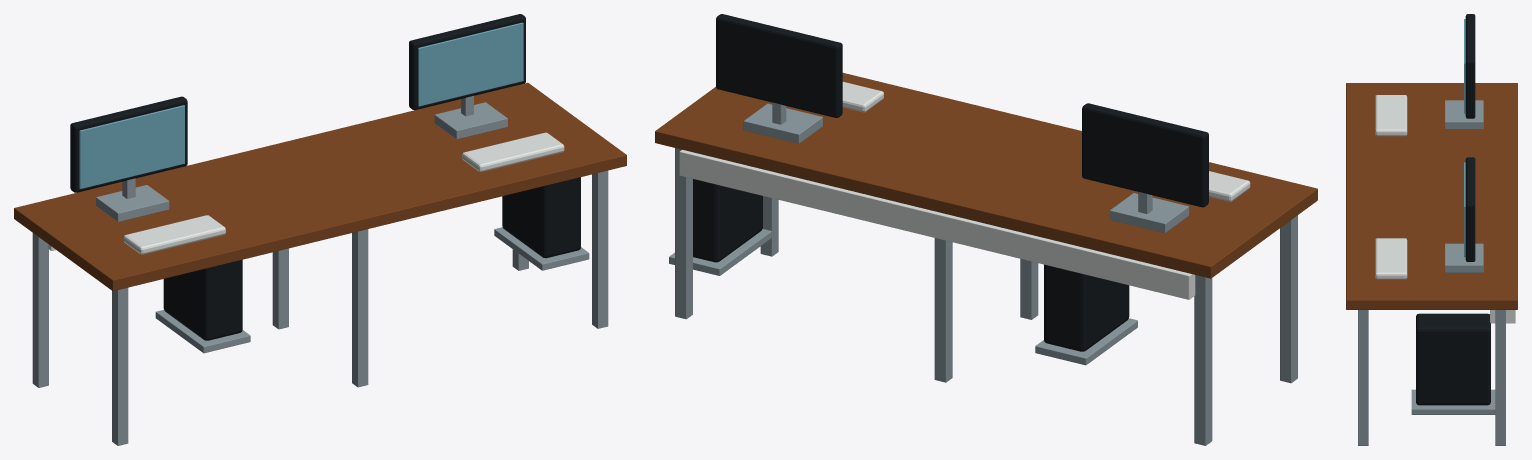
3 renders of one model, left to right at view 1: azimuth 30°, elevation 25°; view 2: azimuth 150°, elevation 25°; view 3: azimuth 270°, elevation 25°, orthographic. The views are drawn at different scales.
Visible parts, largest first — view 1: DESK_Top, MONITOR_Glass.001, MONITOR_Glass, CPU_Case.001, CPU_Case, DESK_Leg, DESK_Leg.002, DESK_Leg.004, DESK_Leg.001, MONITOR_Frame, MONITOR_Frame.001, KEYBOARD (+6 smaller); view 2: DESK_Top, SERVICE_Duct, MONITOR_Frame, MONITOR_Frame.001, CPU_Case.001, CPU_Case, DESK_Leg.001, DESK_Leg, DESK_Leg.003, DESK_Leg.005, MONITOR_Base.001, MONITOR_Base (+6 smaller); view 3: DESK_Top, CPU_Case, DESK_Leg.004, DESK_Leg.005, KEYBOARD.001, KEYBOARD, MONITOR_Frame, MONITOR_Frame.001, CPU_Tray, MONITOR_Base, MONITOR_Base.001, SERVICE_Duct (+2 smaller).
Part boxes in pixels (x1=…): DESK_Top: x1=14, y1=82, x2=626, y2=291; MONITOR_Glass.001: x1=418, y1=22, x2=523, y2=106; MONITOR_Glass: x1=79, y1=105, x2=184, y2=188; CPU_Case.001: x1=163, y1=259, x2=242, y2=340; CPU_Case: x1=502, y1=177, x2=580, y2=258; DESK_Leg: x1=112, y1=287, x2=128, y2=445; DESK_Leg.002: x1=352, y1=229, x2=368, y2=387; DESK_Leg.004: x1=592, y1=170, x2=608, y2=328; DESK_Leg.001: x1=32, y1=233, x2=48, y2=387; MONITOR_Frame: x1=70, y1=96, x2=187, y2=192; MONITOR_Frame.001: x1=409, y1=14, x2=525, y2=110; KEYBOARD: x1=123, y1=215, x2=225, y2=254; DESK_Top: x1=655, y1=73, x2=1317, y2=278; SERVICE_Duct: x1=679, y1=149, x2=1195, y2=299; MONITOR_Frame: x1=1082, y1=103, x2=1208, y2=207; MONITOR_Frame.001: x1=716, y1=14, x2=842, y2=117; CPU_Case.001: x1=1044, y1=264, x2=1129, y2=351; CPU_Case: x1=693, y1=179, x2=762, y2=262; DESK_Leg.001: x1=1194, y1=275, x2=1212, y2=445; DESK_Leg: x1=1280, y1=215, x2=1297, y2=383; DESK_Leg.003: x1=934, y1=238, x2=952, y2=382; DESK_Leg.005: x1=675, y1=148, x2=692, y2=319; MONITOR_Base.001: x1=743, y1=103, x2=822, y2=143; MONITOR_Base: x1=1110, y1=193, x2=1189, y2=232; DESK_Top: x1=1346, y1=83, x2=1517, y2=309; CPU_Case: x1=1416, y1=313, x2=1490, y2=405; DESK_Leg.004: x1=1358, y1=310, x2=1368, y2=445; DESK_Leg.005: x1=1495, y1=310, x2=1505, y2=445; KEYBOARD.001: x1=1375, y1=238, x2=1407, y2=279; KEYBOARD: x1=1375, y1=95, x2=1407, y2=136; MONITOR_Frame: x1=1465, y1=14, x2=1475, y2=118; MONITOR_Frame.001: x1=1465, y1=157, x2=1475, y2=261; CPU_Tray: x1=1411, y1=389, x2=1495, y2=414; MONITOR_Base: x1=1445, y1=100, x2=1483, y2=129; MONITOR_Base.001: x1=1445, y1=243, x2=1483, y2=272; SERVICE_Duct: x1=1490, y1=310, x2=1515, y2=323.
Bounding box in the file's own units: 2.4 × 1.2 × 0.8.
